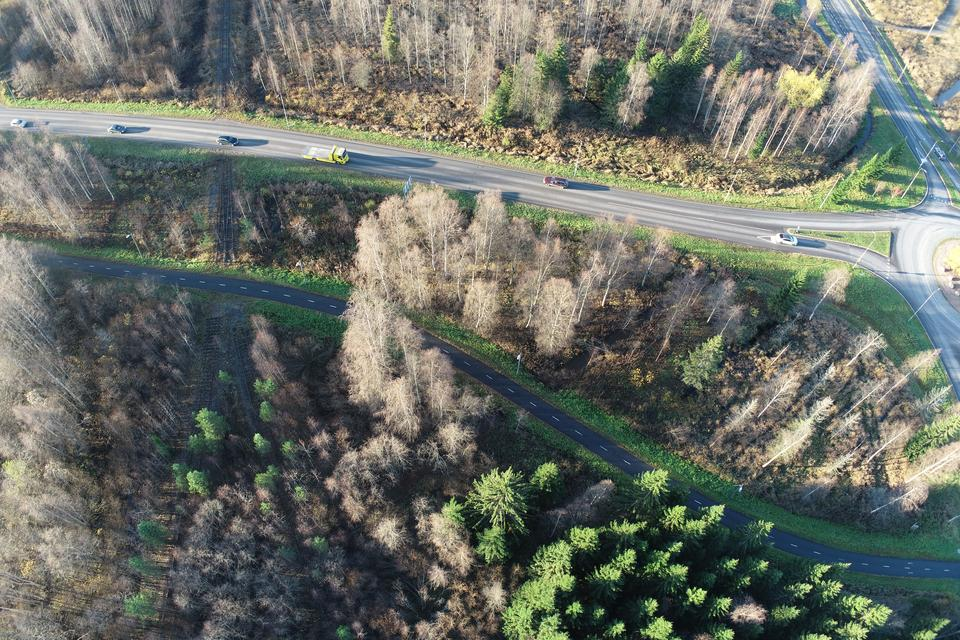roundabout: (869, 162, 960, 379)
